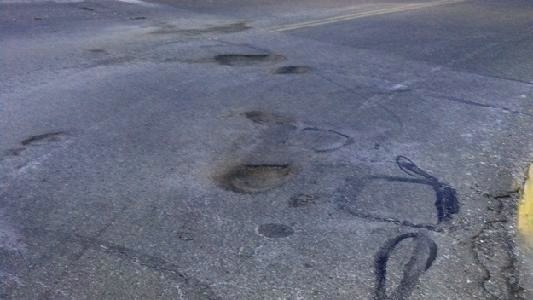pothole: (470, 188, 528, 297), (219, 160, 299, 193), (213, 49, 285, 66), (20, 128, 71, 149), (274, 62, 312, 75)
